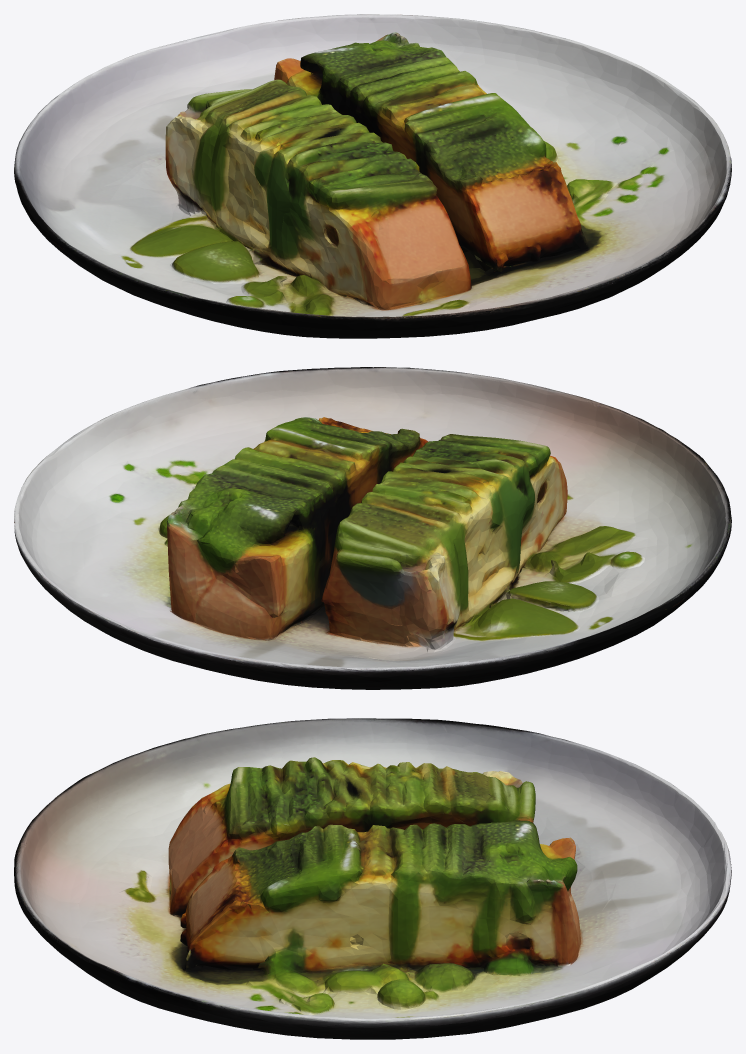
The model's file is cake2.glb.
3 renders of one model, top to bottom at view 1: azimuth 30°, elevation 25°; view 2: azimuth 150°, elevation 25°; view 3: azimuth 270°, elevation 25°, orthographic.
Parts seen in each view (by area): view 1: world; view 2: world; view 3: world.
Part boxes in pixels (bbox=[...]): world: bbox=[14, 14, 731, 338]; world: bbox=[14, 367, 731, 689]; world: bbox=[14, 718, 731, 1039].
Bounding box in the file's own units: 0.9994 × 0.1898 × 0.9983.
1 material, 1 textured.
